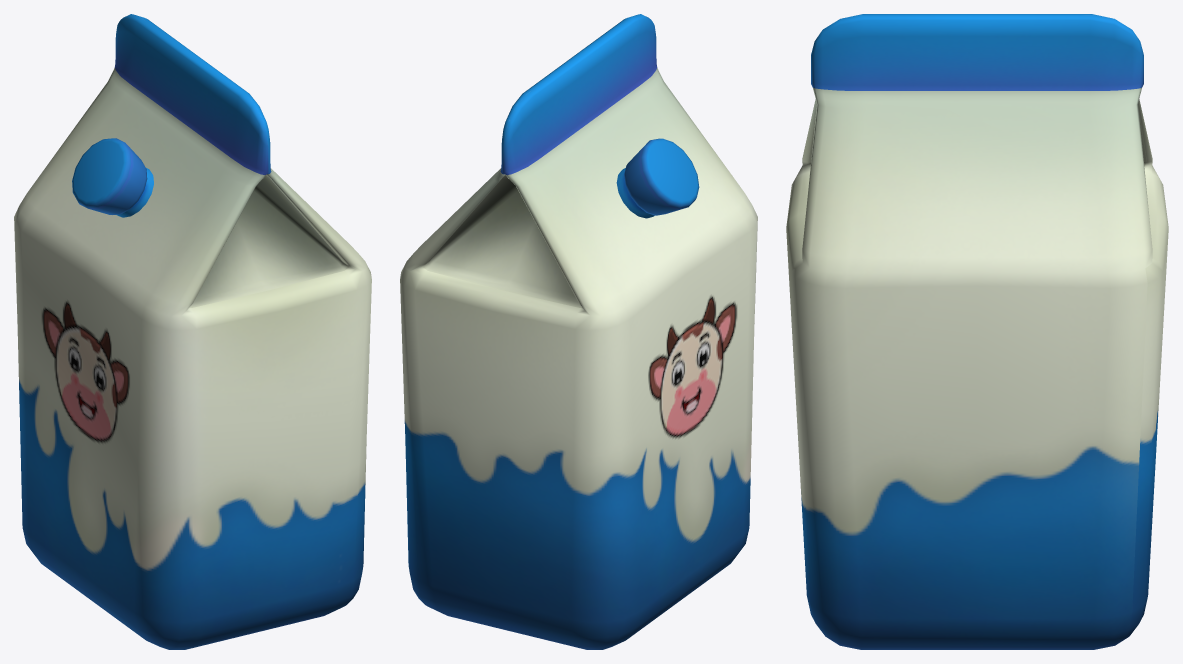
File: Milk .fbx
3 views of the same model, side by side, from view 1: azimuth 30°, elevation 25°; view 2: azimuth 150°, elevation 25°; view 3: azimuth 270°, elevation 25° (orthographic). The views are drawn at different scales.
Parts seen in each view (by area): view 1: Milk bottle, Milk cap; view 2: Milk bottle, Milk cap; view 3: Milk bottle.
Part boxes in pixels (x1,y1,x2,y2): Milk bottle: (14,14,371,649); Milk cap: (72,138,147,214); Milk bottle: (400,14,757,649); Milk cap: (624,138,699,215); Milk bottle: (786,14,1168,649).
Bounding box in the file's own units: 105 × 140 × 238.
